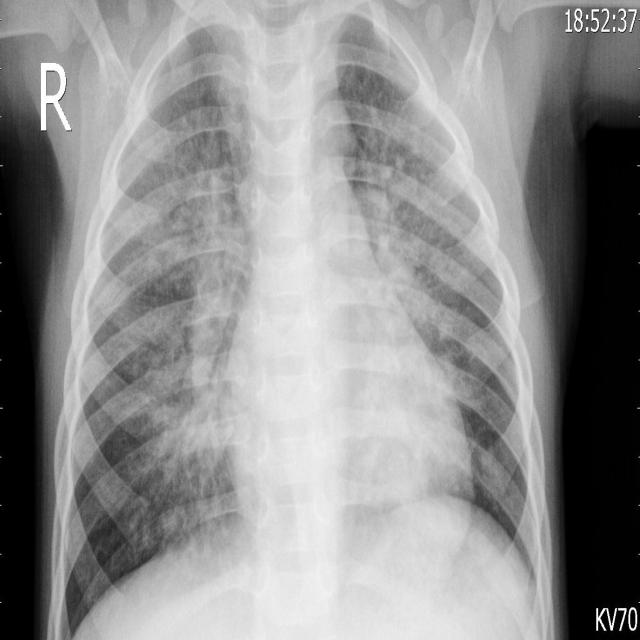low-pneumonia: (365, 165, 444, 346), (182, 164, 249, 367), (154, 370, 238, 498)
